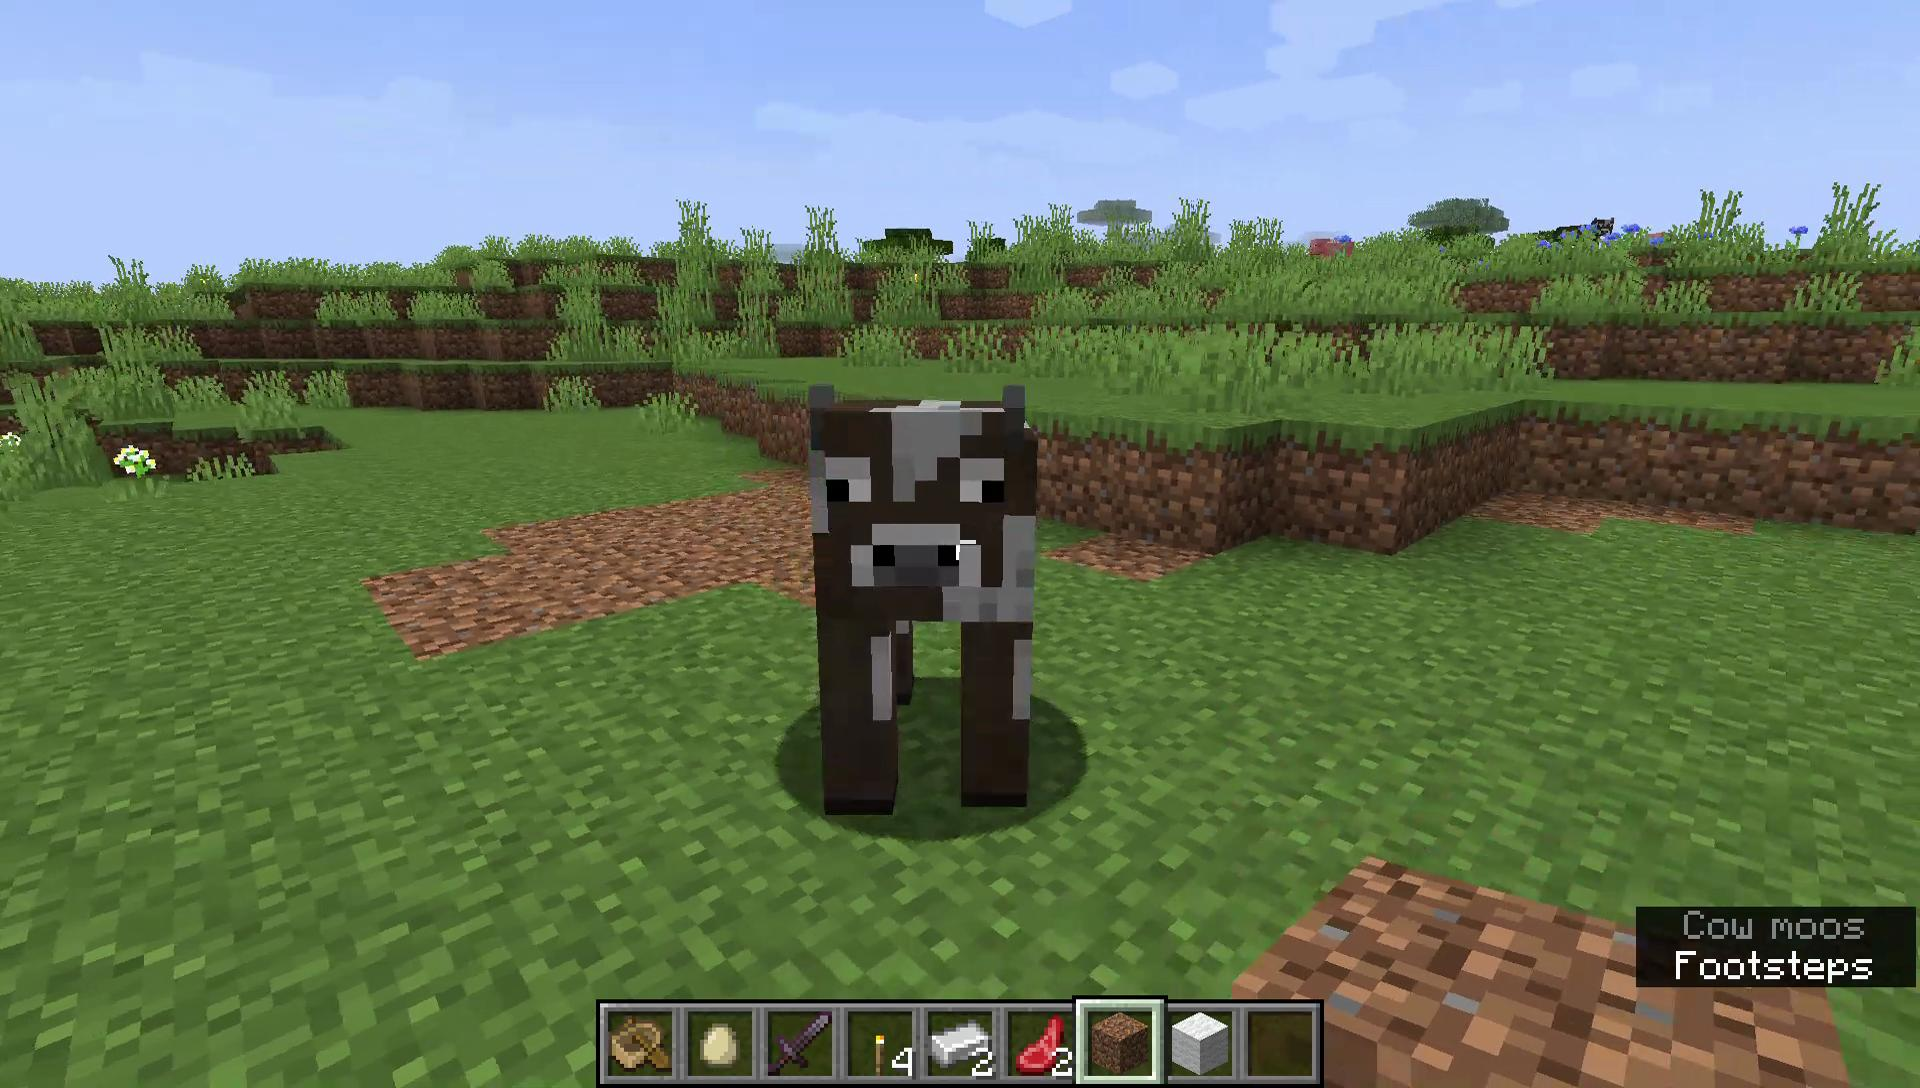cow: (800, 376, 1048, 830), (1555, 216, 1615, 252)
pig: (1308, 235, 1356, 269)
